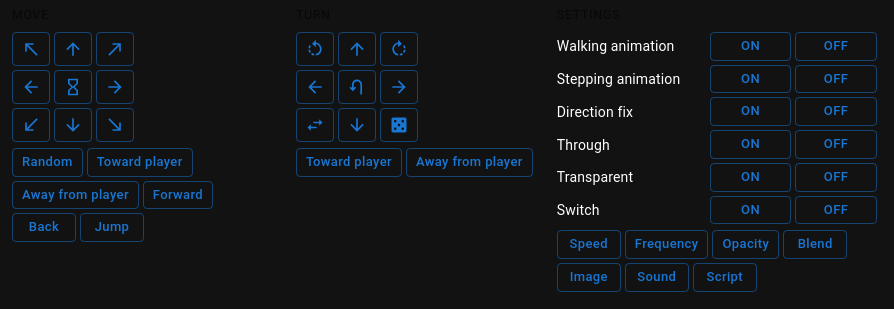
Test case: RoutePads › names only the step for a key the number pad does not type, when hovered
This screenshot has width=894, height=309.
Hover over the button "Jump" at (112,228), box x1=80 y1=213 x2=144 y2=242
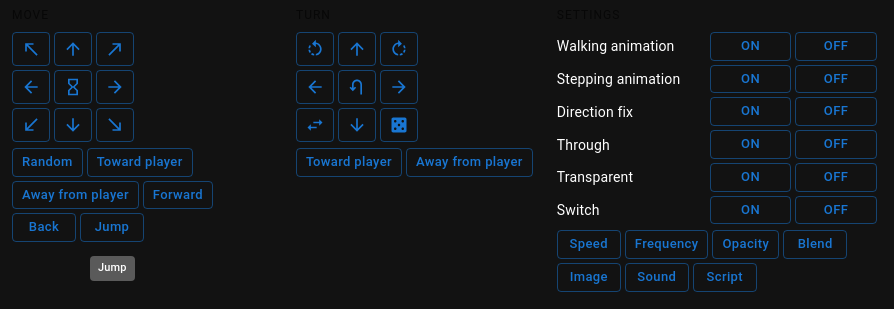
Check: the tooltip reads "Jump", box x1=98 y1=261 x2=127 y2=274
